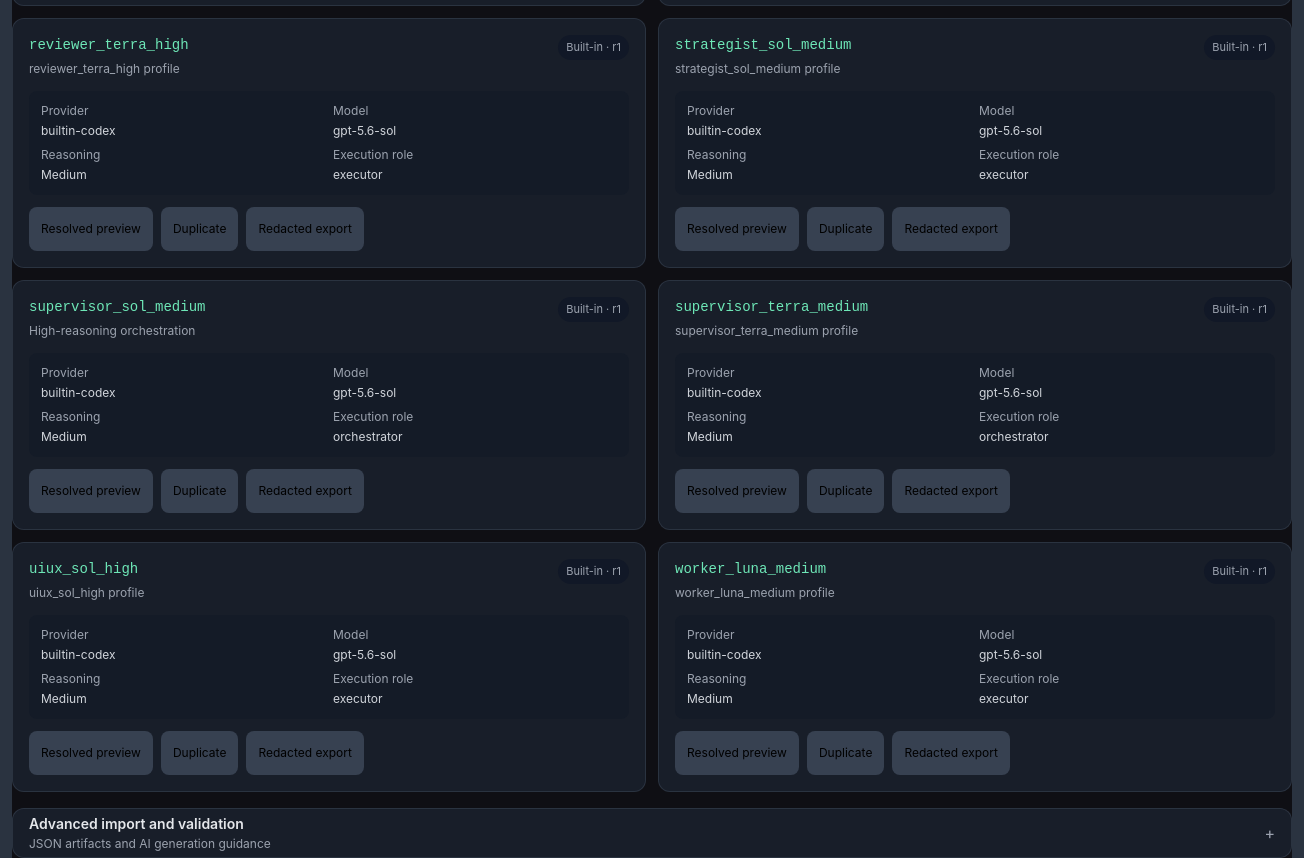
it: Control-plane settings routes › shows immutable profile revisions and resolved-preview controls
(page scrolled)
expect the heading "supervisor_sol_medium" is shown: met, box 29,297 -> 205,317
Click the button "Advanced import and validation" at (136, 824), box 13,809 -> 1291,857
(page scrolled)
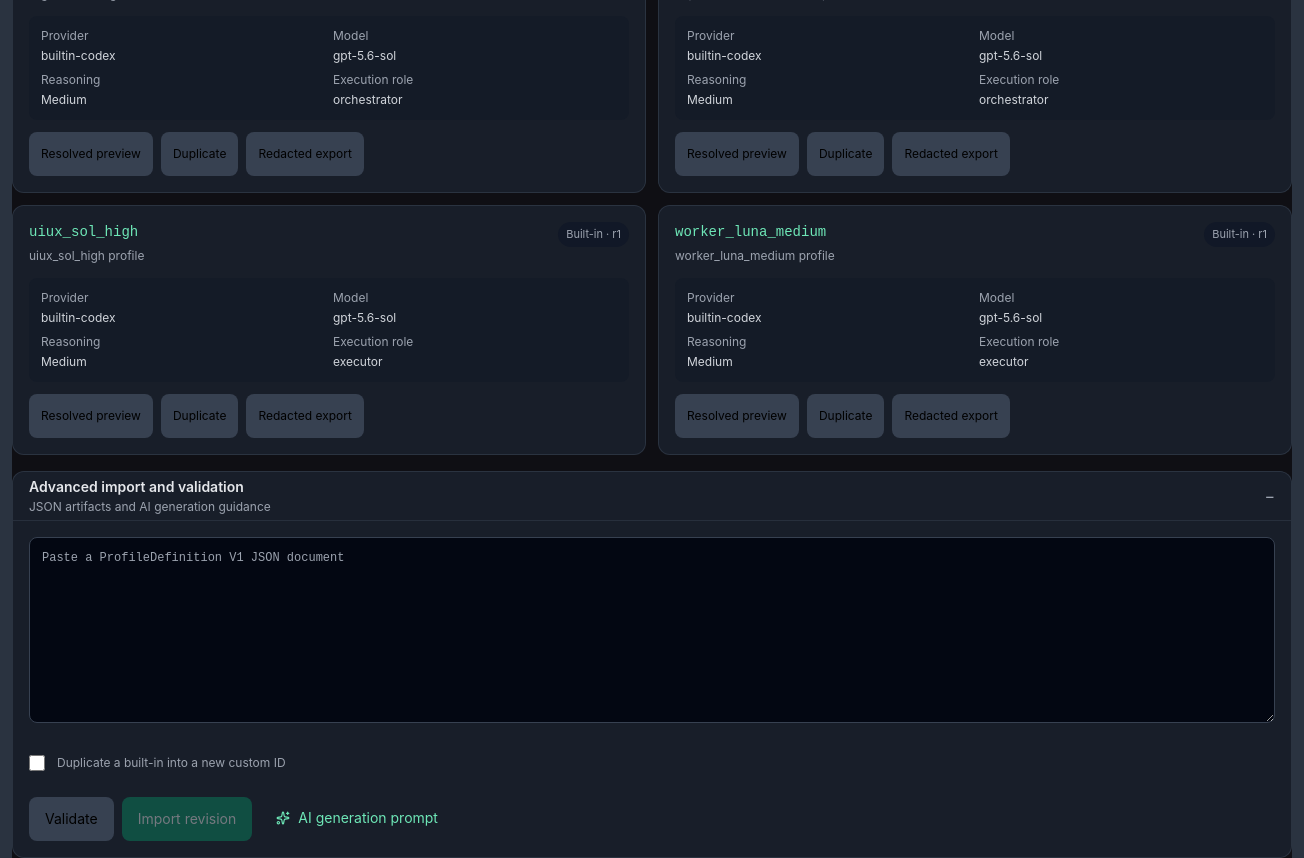
expect the button "AI generation prompt" is shown: met, box 260,797 -> 454,841
